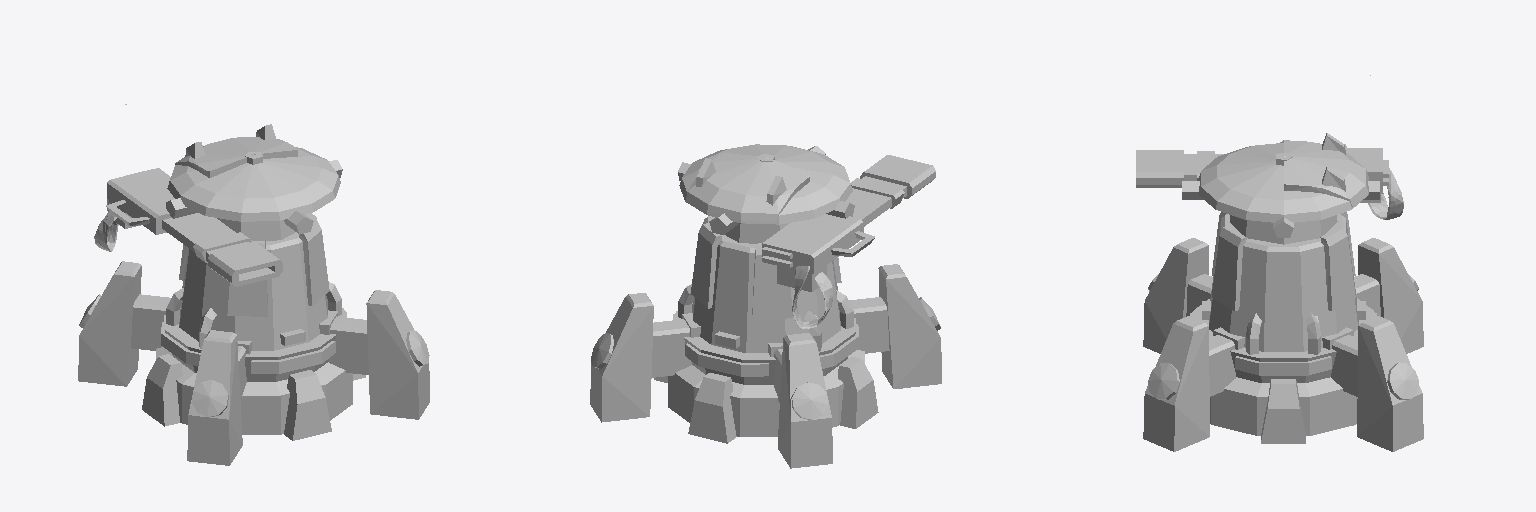
The model's file is tau defense.obj.
The picture shows the model from 3 angles: view 1: azimuth 30°, elevation 25°; view 2: azimuth 150°, elevation 25°; view 3: azimuth 270°, elevation 25°; orthographic projection.
Parts seen in each view (by area): view 1: Object.1; view 2: Object.1; view 3: Object.1.
Part boxes in pixels (x1,y1,x2,y2): Object.1: (78, 104, 429, 465); Object.1: (590, 144, 941, 468); Object.1: (1136, 75, 1423, 451).
Size of the model in its own units: 50.57 by 55.28 by 51.87.